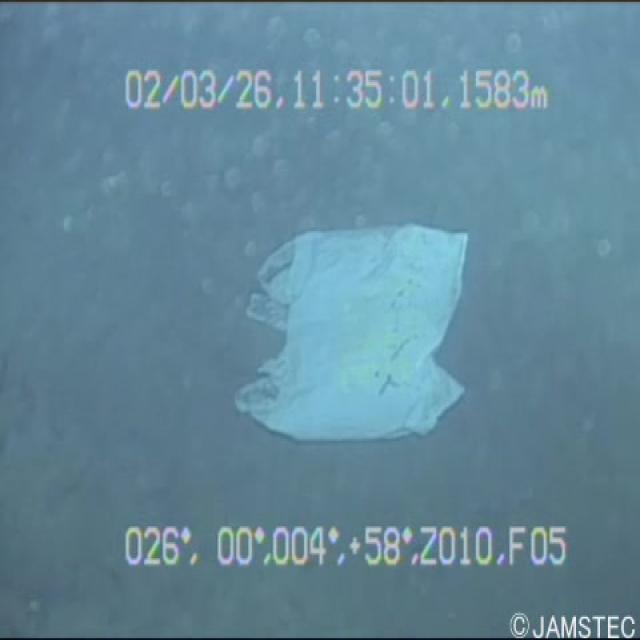plastic: (228, 187, 481, 468)
